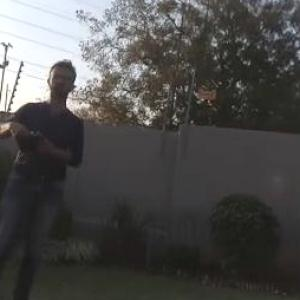follow: (0, 52, 89, 299)
